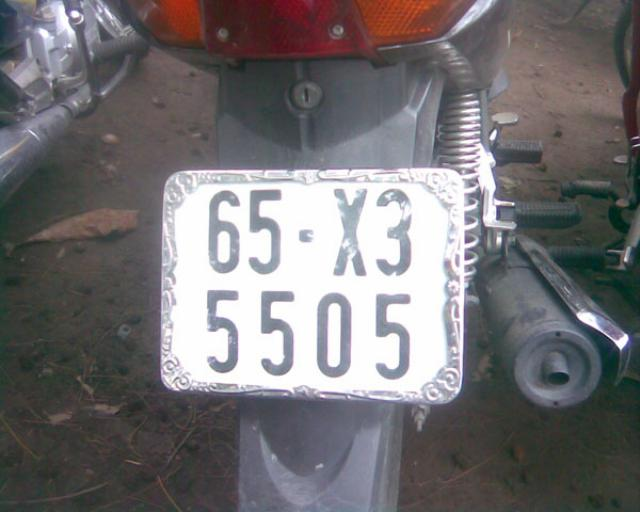plate: (172, 174, 452, 400)
